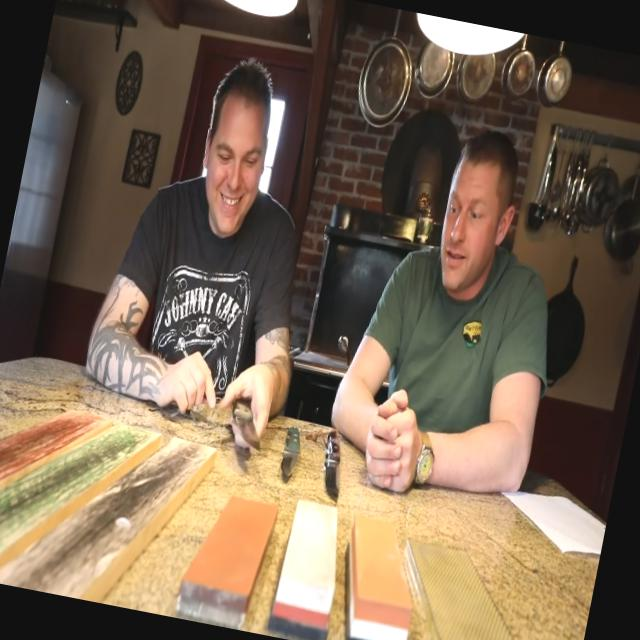knife: (212, 360, 282, 468)
